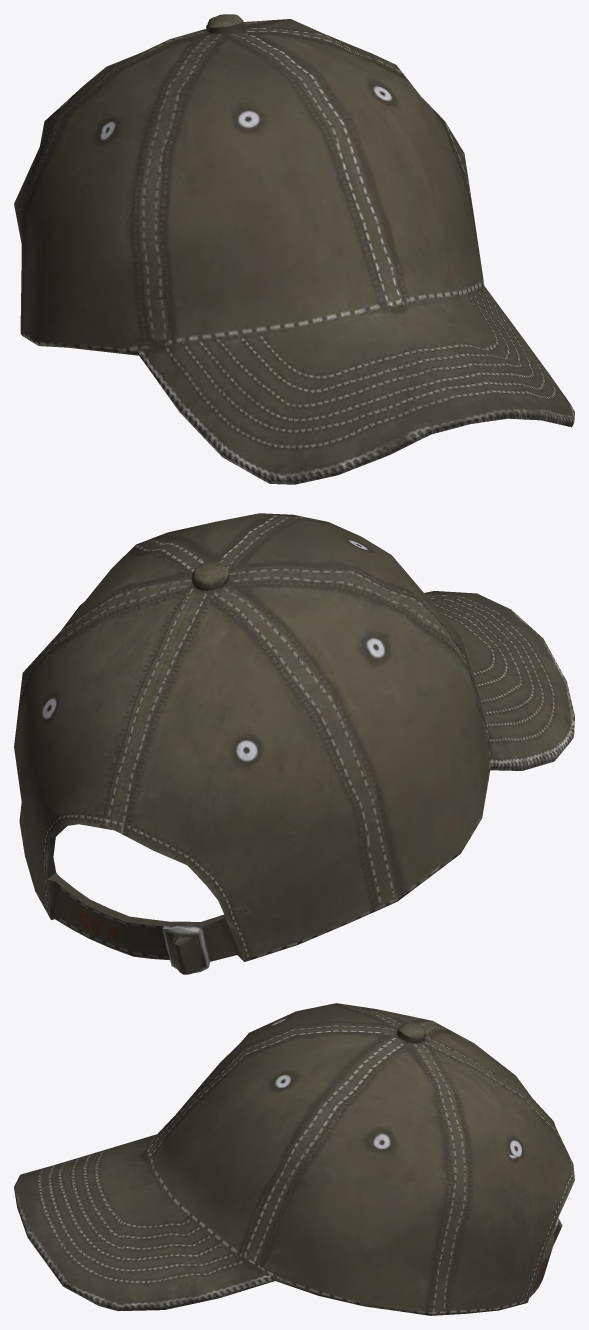
File: denim-cap.glb
The picture shows the model from 3 angles, top to bottom: view 1: azimuth 30°, elevation 25°; view 2: azimuth 150°, elevation 25°; view 3: azimuth 270°, elevation 25°; orthographic projection. The views are drawn at different scales.
Parts seen in each view (by area): view 1: Cap_2__0; view 2: Cap_2__0; view 3: Cap_2__0.
Boxes of the visible parts, <box> form: Cap_2__0: <box>14,14,574,484</box>; Cap_2__0: <box>14,513,574,974</box>; Cap_2__0: <box>14,1003,574,1315</box>.
Bounding box in the file's own units: 2.11 × 1.57 × 3.13.
1 material, 1 textured.
